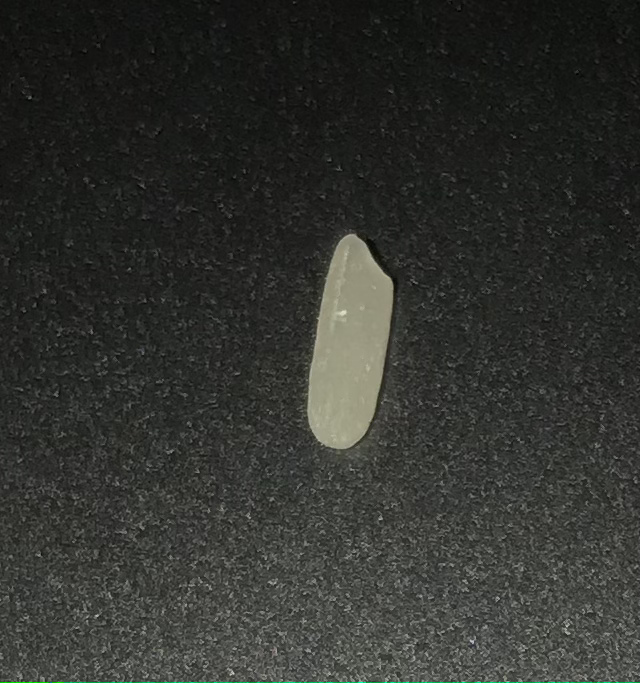Gao Tam Thom: (304, 222, 395, 464)
